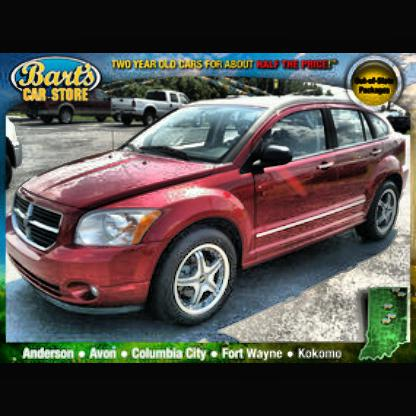Dodge Caliber Wagon 2007: (7, 97, 408, 324)
